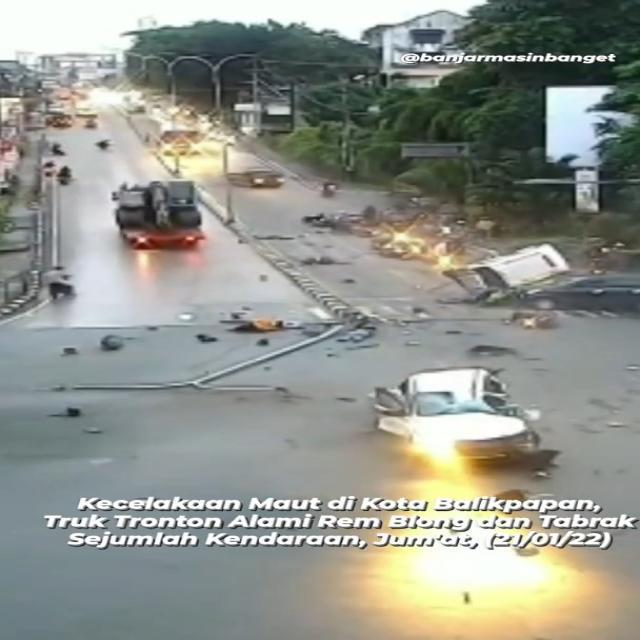accident: (355, 354, 573, 480), (376, 223, 640, 314)
non_accident: (105, 177, 213, 253), (215, 156, 300, 192), (48, 152, 77, 190)
